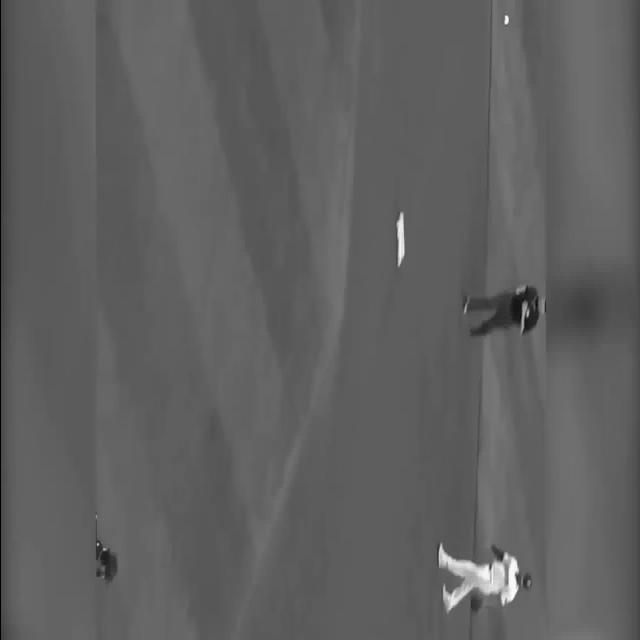base: (394, 214, 402, 268)
baseball: (502, 14, 508, 25)
baseball_glove: (491, 544, 503, 562)
shoe: (442, 582, 450, 614), (436, 542, 444, 568), (470, 326, 483, 336), (462, 295, 468, 313)
